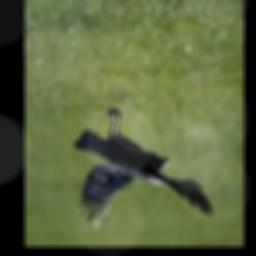Crow: (74, 107, 213, 236)
